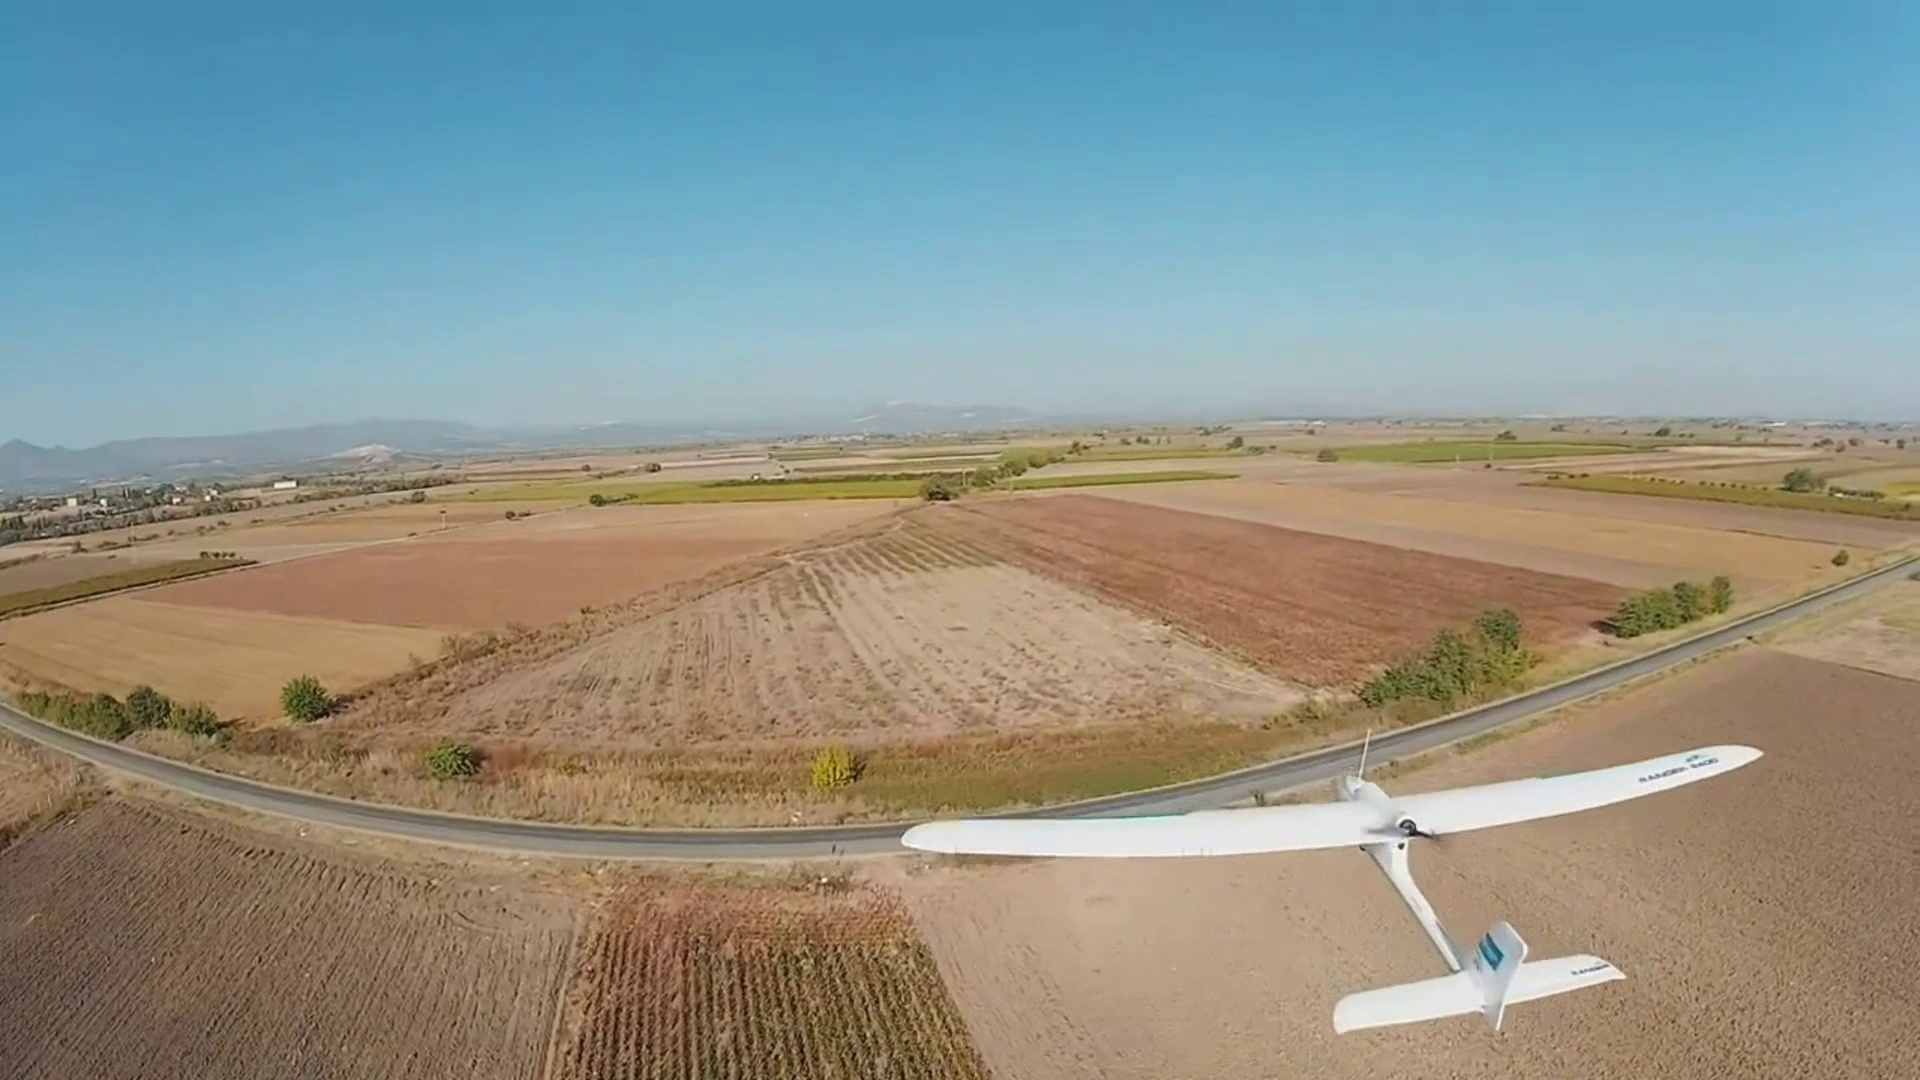airplane: (894, 535, 1920, 1031)
